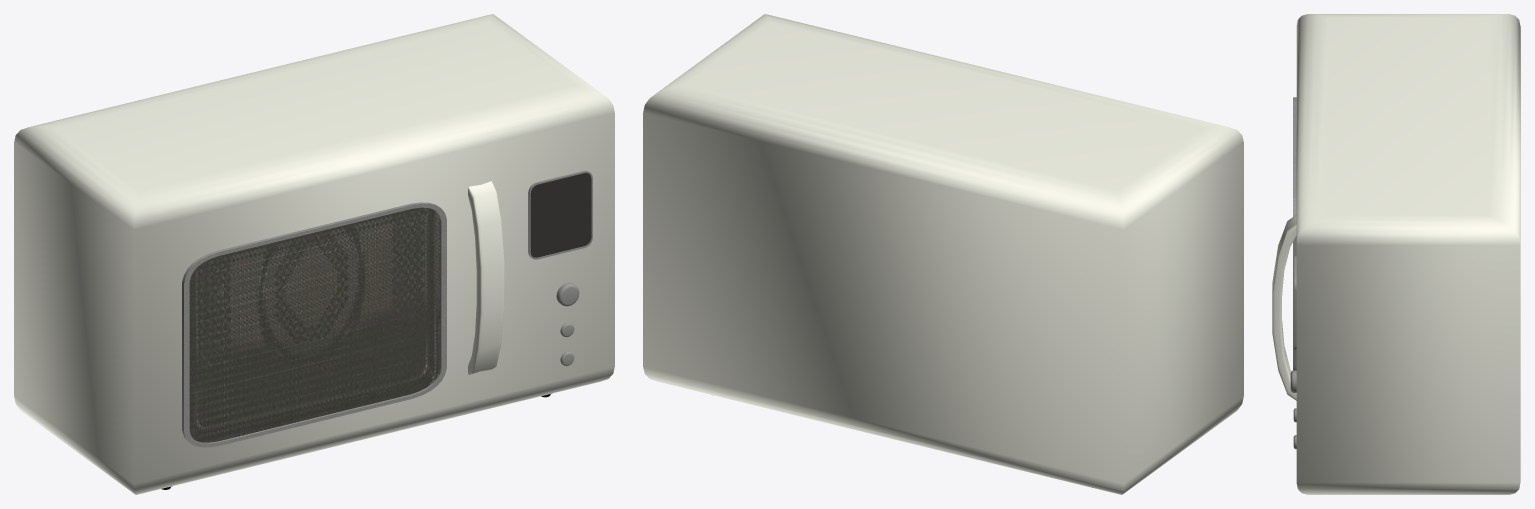
The model's file is MicrowaveActual.FBX.
The picture shows the model from 3 angles, left to right: view 1: azimuth 30°, elevation 25°; view 2: azimuth 150°, elevation 25°; view 3: azimuth 270°, elevation 25°; orthographic projection. The views are drawn at different scales.
Parts seen in each view (by area): view 1: Box001, Box004, Box002, Box003; view 2: Box001; view 3: Box001, Box002, Box004, Box003.
Boxes of the visible parts, box(x1,y1,x2,y2) form: Box001: box(14, 14, 614, 494); Box004: box(182, 202, 446, 447); Box002: box(468, 181, 504, 374); Box003: box(528, 170, 592, 259); Box001: box(643, 14, 1243, 494); Box001: box(1296, 14, 1520, 494); Box002: box(1272, 215, 1296, 400); Box004: box(1293, 97, 1296, 370); Box003: box(1294, 256, 1296, 350).
Size of the model in its own units: 45.22 by 27.42 by 21.65.
Materials: 5 (5 with a texture image).
